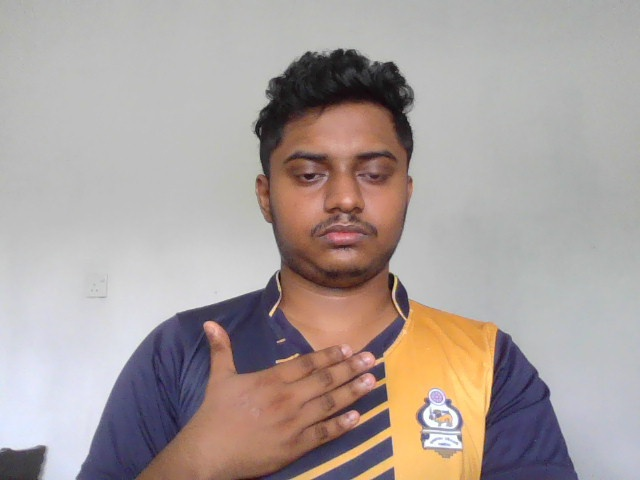Please: (198, 318, 378, 476)
